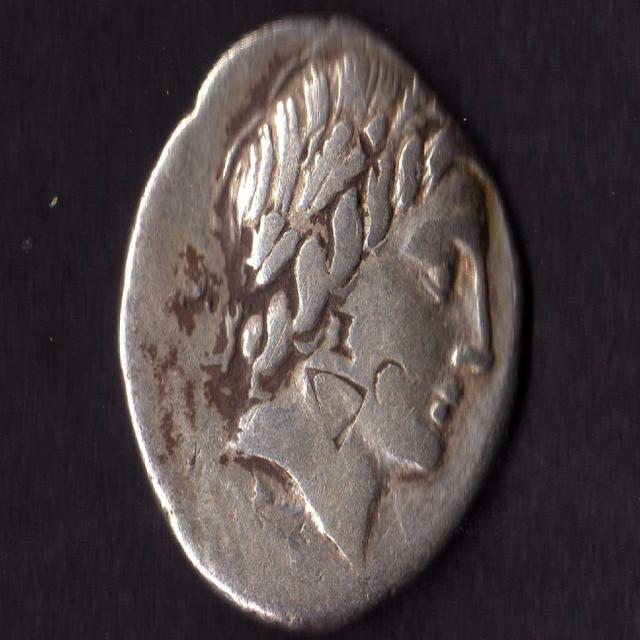Coin: (119, 15, 523, 633)
